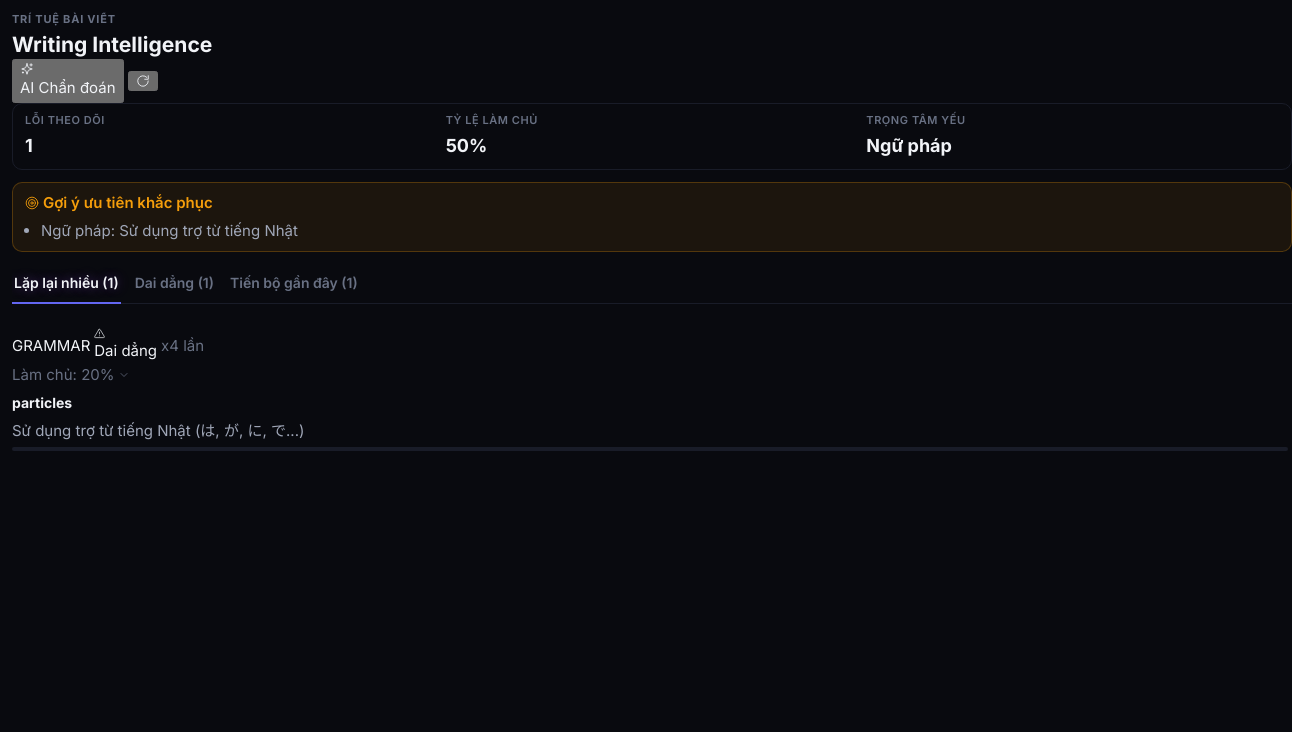
Test: WritingIntelligencePanel › allows switching tabs and expanding weakness examples
This screenshot has width=1292, height=732.
Expected: the heading "Writing Intelligence" is shown, [12,32,212,57]
Expected: the text "particles" is shown, [12,394,72,411]
Note: Switch to recent improvements tab
Click the tab "Tiến bộ gần đây (1)": (294, 284) [228,264,360,304]
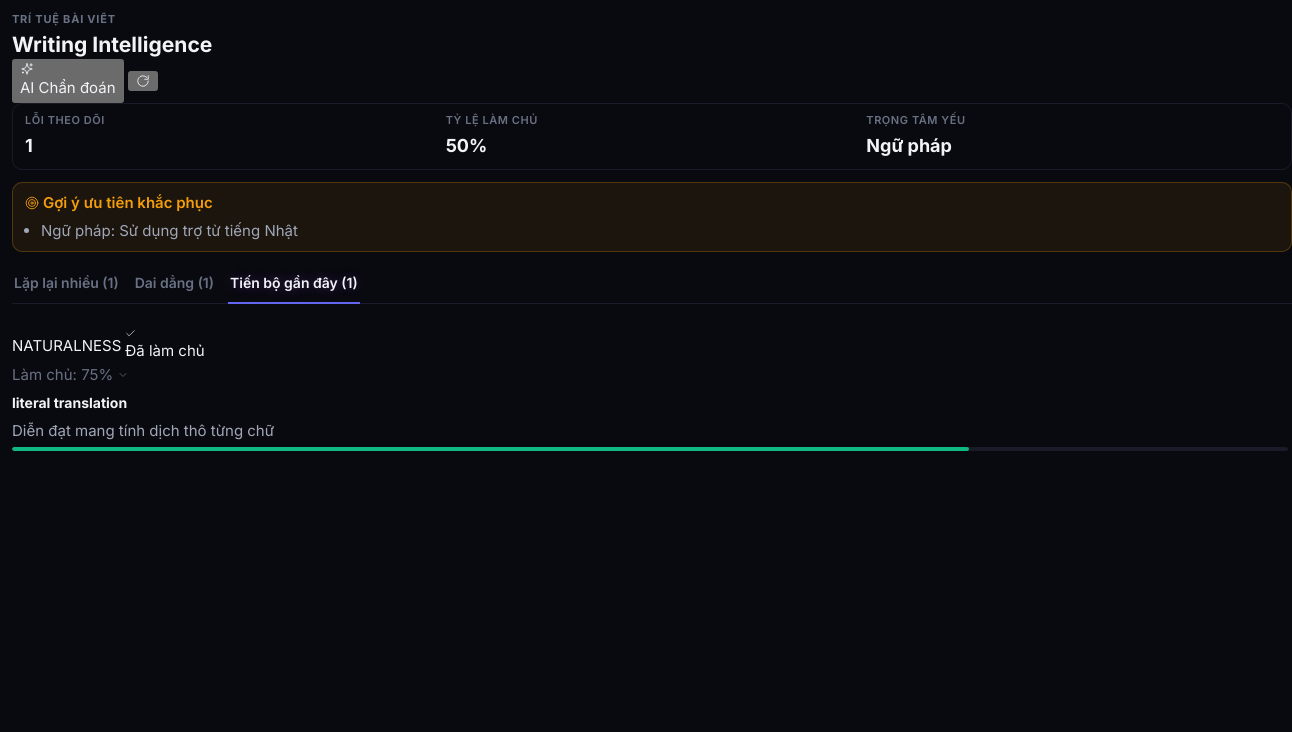
Expected: the text "literal translation" is shown
Expected: the text "Đã làm chủ" is shown, [125,328,205,363]
Note: Expand weakness to view examples
Click the text "literal translation": (70, 402) [12,394,127,411]
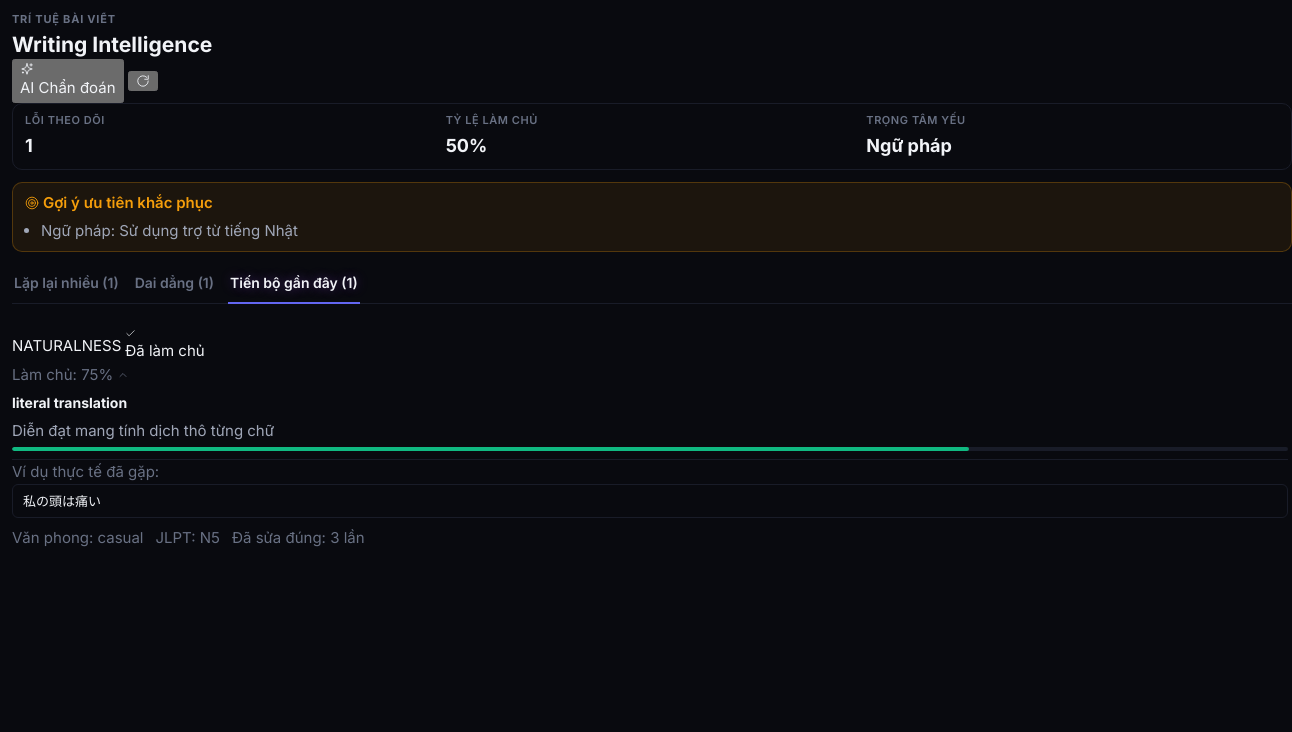
Expected: the text "Ví dụ thực tế đã gặp:" is shown, [12,462,159,481]
Expected: the text "私の頭は痛い" is shown, [12,484,1288,518]
